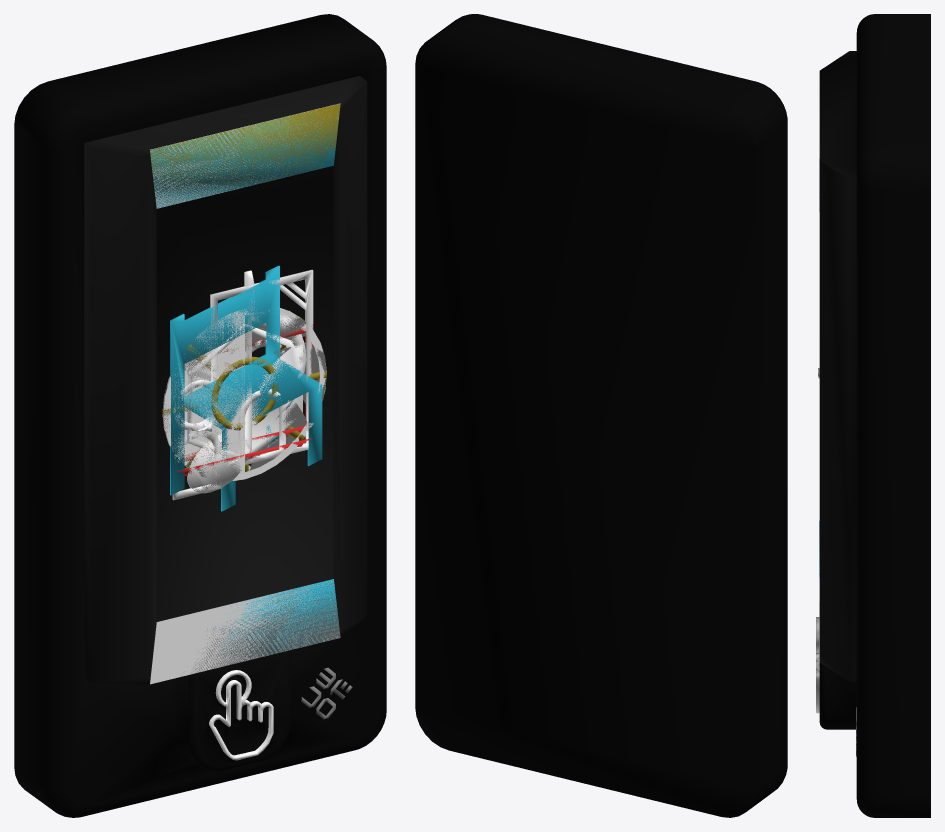
Rendered from YodoHapticSwitches.fbx.
3 views of the same model, side by side, from view 1: azimuth 30°, elevation 25°; view 2: azimuth 150°, elevation 25°; view 3: azimuth 270°, elevation 25° (orthographic). The views are drawn at different scales.
Parts seen in each view (by area): view 1: Base\Base, Chair_ON, Contrast_ON, Brightness_ON_2, PostProcess_OFF, Mirror_ON, Sound_ON, GeneralObject_ON, Video_ON; view 2: Base\Base; view 3: Base\Base.
Boxes of the visible parts, left/top/right/bottom form: Base\Base: left=14, top=14, right=386, bottom=817; Chair_ON: left=150, top=104, right=339, bottom=662; Contrast_ON: left=150, top=104, right=338, bottom=684; Brightness_ON_2: left=150, top=103, right=340, bottom=479; PostProcess_OFF: left=150, top=118, right=340, bottom=682; Mirror_ON: left=172, top=269, right=313, bottom=500; Sound_ON: left=187, top=270, right=306, bottom=493; GeneralObject_ON: left=187, top=324, right=302, bottom=462; Video_ON: left=177, top=324, right=313, bottom=475; Base\Base: left=415, top=14, right=787, bottom=817; Base\Base: left=816, top=14, right=930, bottom=817.
Size of what is drawn, in the model's own units: 10 by 20 by 3.1.
